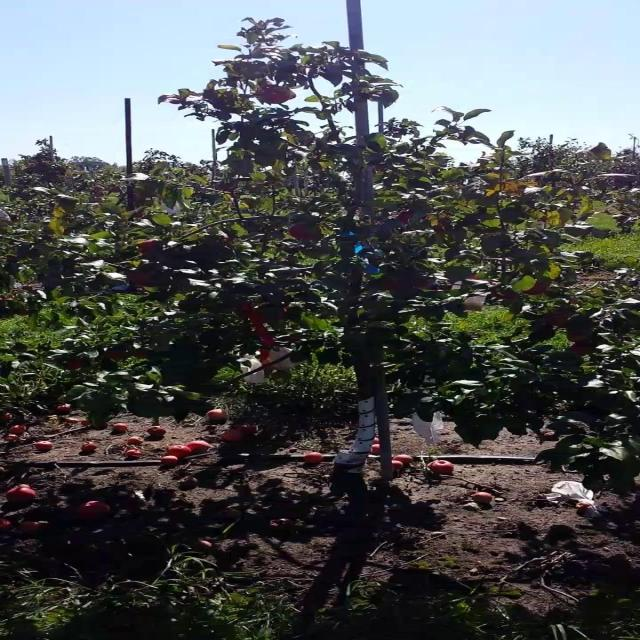apple: (255, 83, 293, 103), (257, 302, 290, 320), (288, 223, 321, 239), (543, 310, 572, 328), (125, 270, 151, 286), (460, 295, 484, 311), (522, 280, 548, 294), (135, 239, 159, 253), (568, 342, 593, 354), (566, 330, 588, 342), (393, 210, 413, 223), (381, 278, 401, 290), (412, 278, 433, 289), (256, 347, 271, 362), (106, 350, 125, 360), (64, 359, 82, 369), (369, 163, 385, 171), (134, 350, 147, 358), (566, 296, 579, 304)
